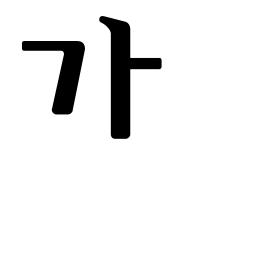Gaji: (99, 47, 147, 85)
